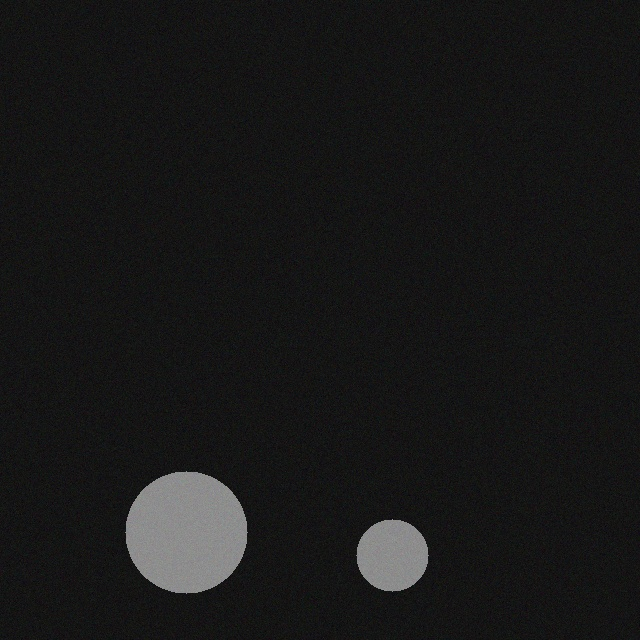circle: (110, 484, 232, 606), (341, 532, 413, 604)
